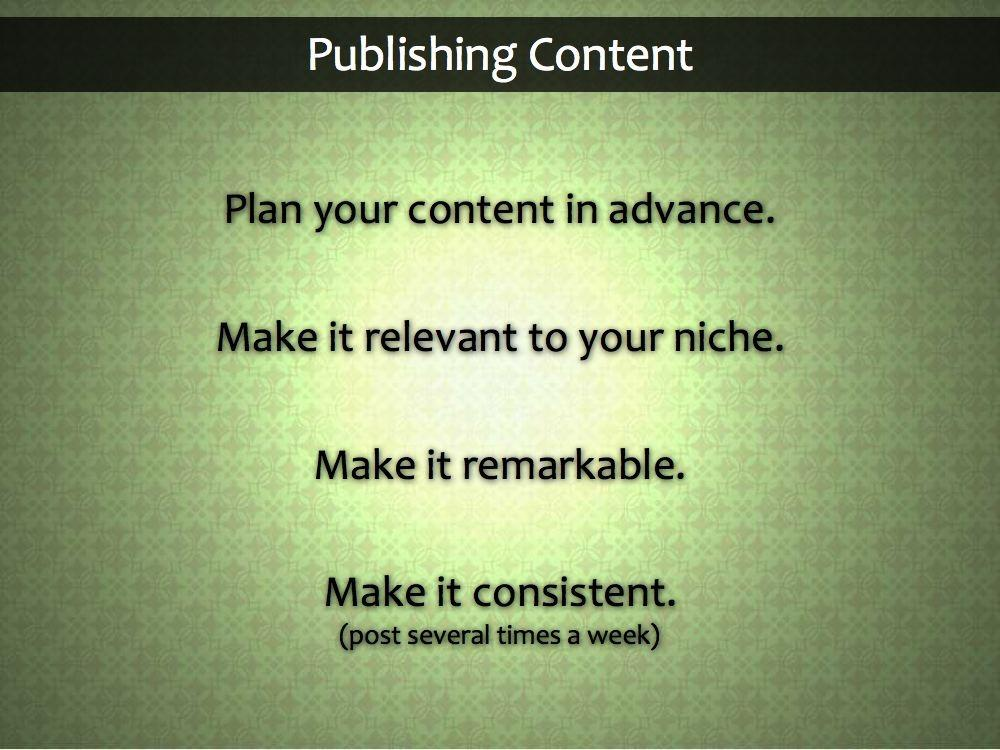paragraph: (186, 166, 840, 680)
title: (283, 20, 723, 97)
